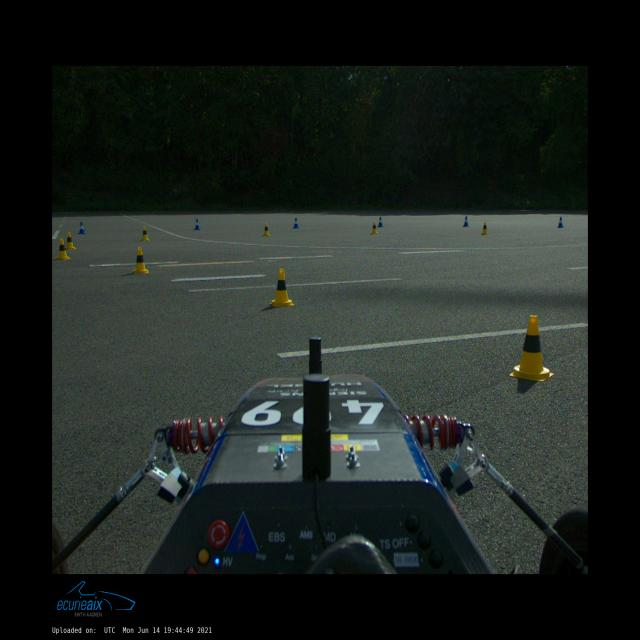blue_cone: (78, 222, 86, 234), (557, 216, 564, 228), (194, 219, 200, 230), (463, 216, 469, 226), (293, 218, 299, 228), (378, 217, 383, 227)
yellow_cone: (509, 315, 554, 382), (270, 268, 294, 307), (133, 246, 149, 274), (55, 238, 72, 260), (65, 232, 77, 250), (141, 226, 150, 241), (263, 223, 271, 236), (481, 222, 489, 234), (371, 222, 378, 234)
